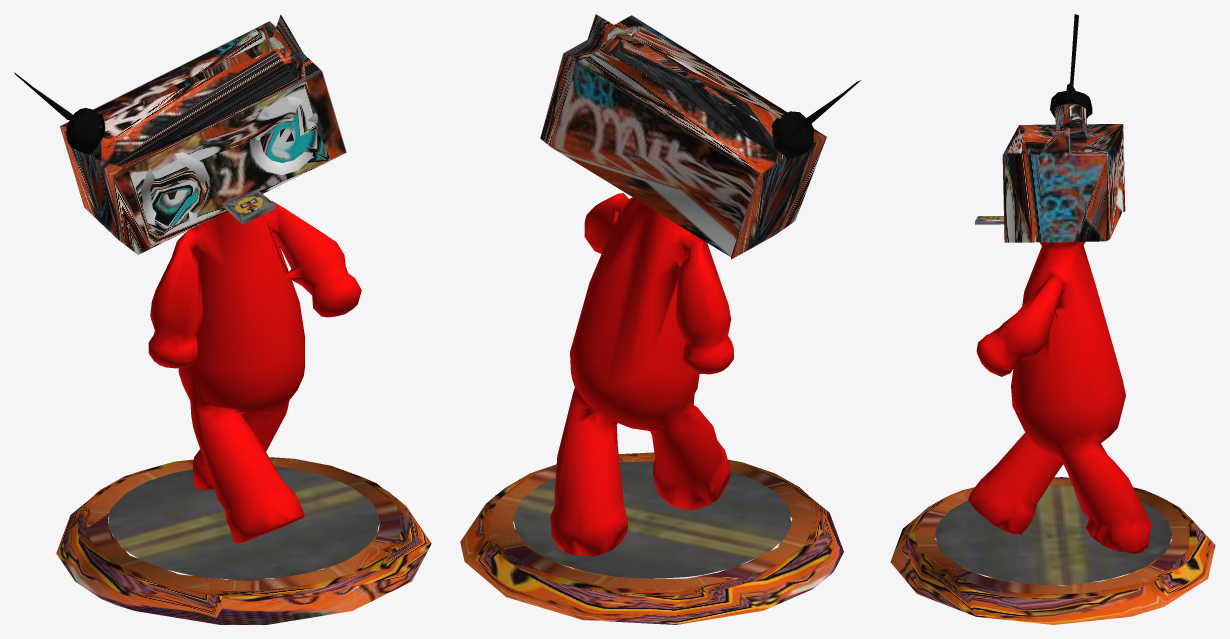
3 renders of one model, left to right at view 1: azimuth 30°, elevation 25°; view 2: azimuth 150°, elevation 25°; view 3: azimuth 270°, elevation 25°, orthographic. The views are drawn at different scales.
Bounding box in the file's own units: 1.69 × 2.2 × 1.44.
11 materials, 4 textured.
